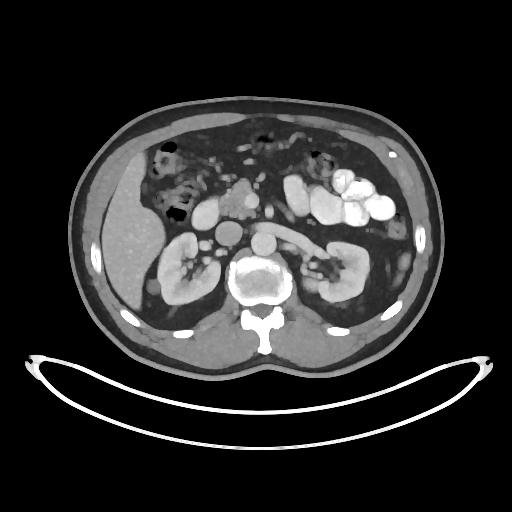Lesion: (141, 277, 163, 297)
